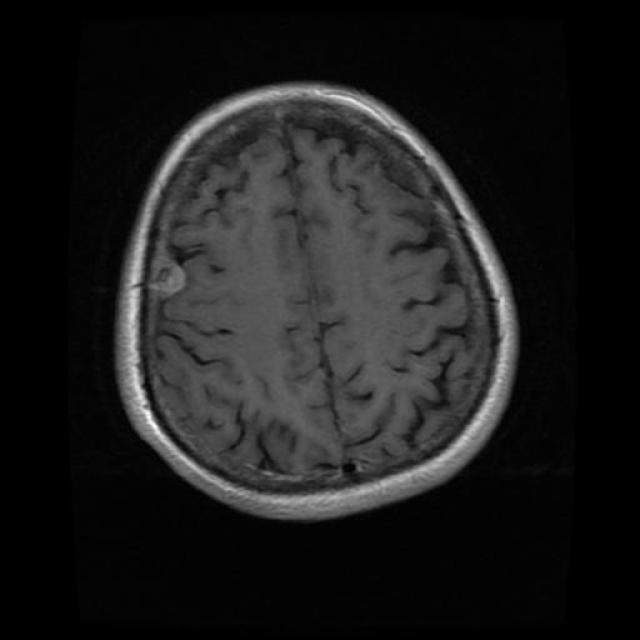meningioma: (164, 265, 186, 295)
